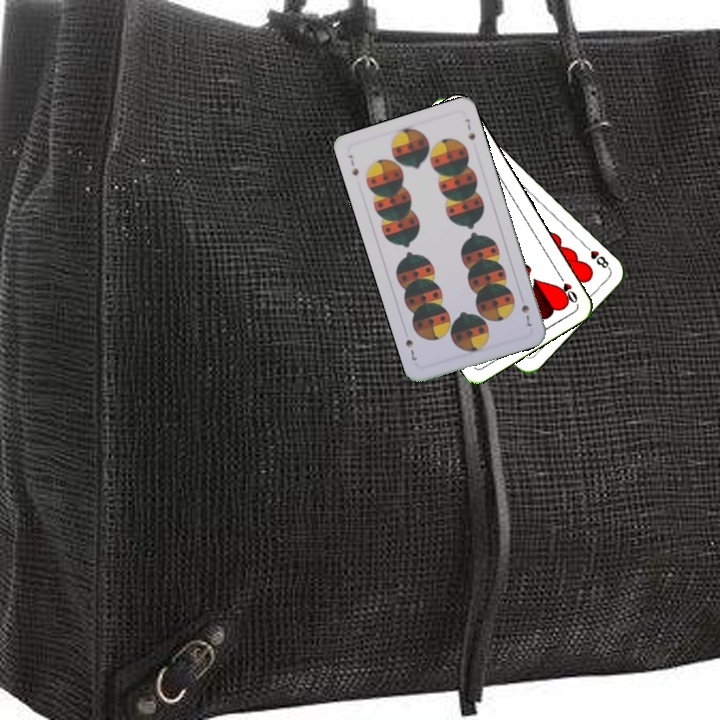H8: (580, 240, 613, 272)
HO: (554, 269, 580, 306)
S7: (517, 300, 534, 329), (344, 150, 361, 179)
